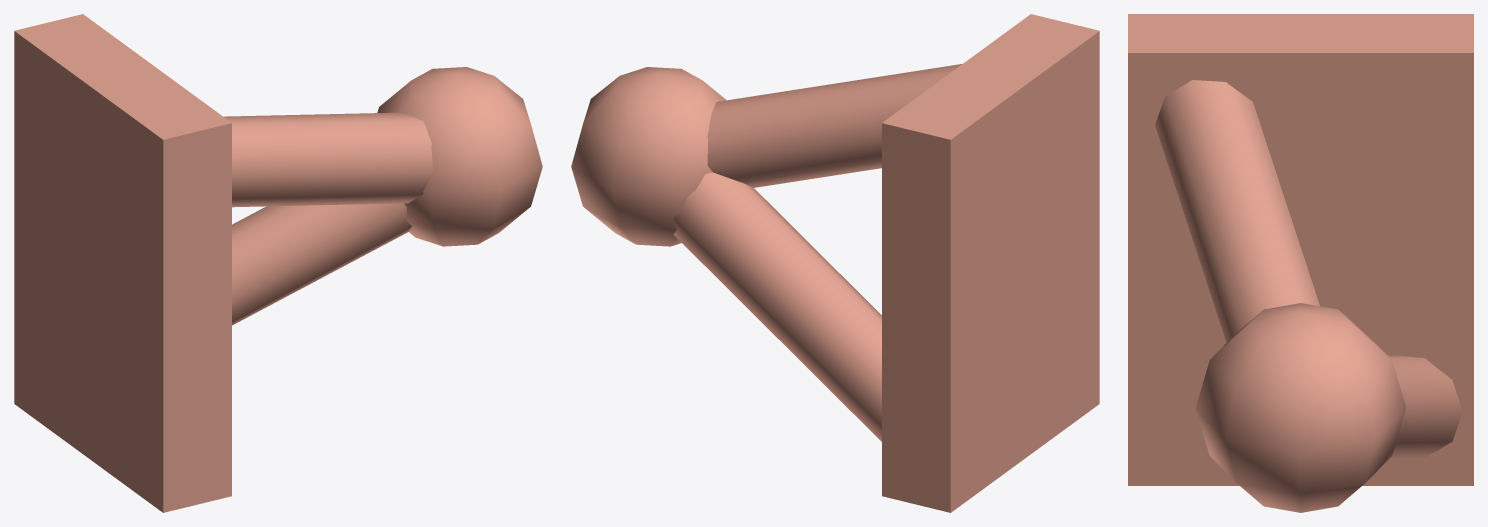
File: stapes.glb
3 views of the same model, side by side, from view 1: azimuth 30°, elevation 25°; view 2: azimuth 150°, elevation 25°; view 3: azimuth 270°, elevation 25° (orthographic). The views are drawn at different scales.
Parts seen in each view (by area): view 1: SAMPLE stapes; view 2: SAMPLE stapes; view 3: SAMPLE stapes.
Part boxes in pixels (x1=…): SAMPLE stapes: x1=14, y1=14, x2=542, y2=512; SAMPLE stapes: x1=571, y1=14, x2=1099, y2=512; SAMPLE stapes: x1=1128, y1=14, x2=1473, y2=512.
Size of the model in its own units: 1.81 by 1.45 by 1.05.
